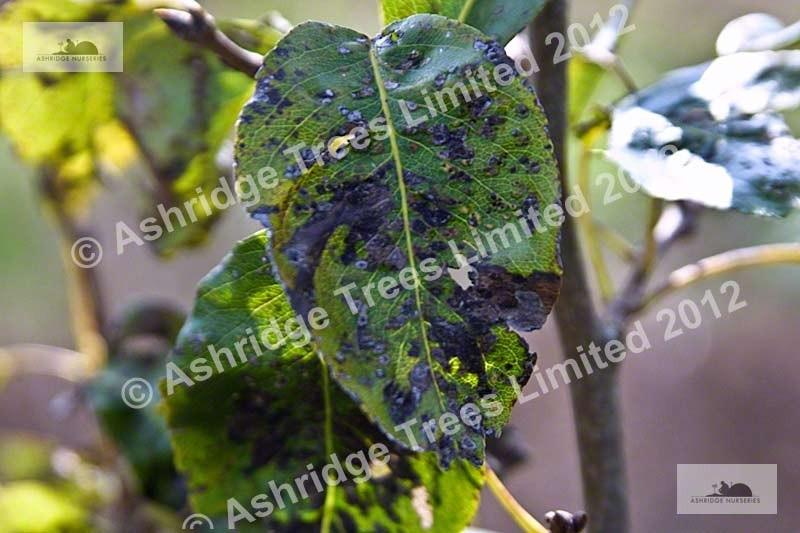Apple Scab Leaf: (228, 11, 553, 475)
